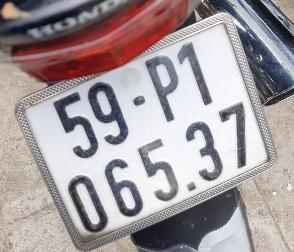0: (61, 168, 120, 242)
1: (175, 35, 222, 112)
3: (177, 108, 233, 190)
5: (128, 130, 194, 212), (47, 85, 110, 167)
6: (95, 156, 153, 224)
7: (212, 92, 272, 180)
9: (80, 70, 142, 155)
P: (137, 44, 196, 131)
